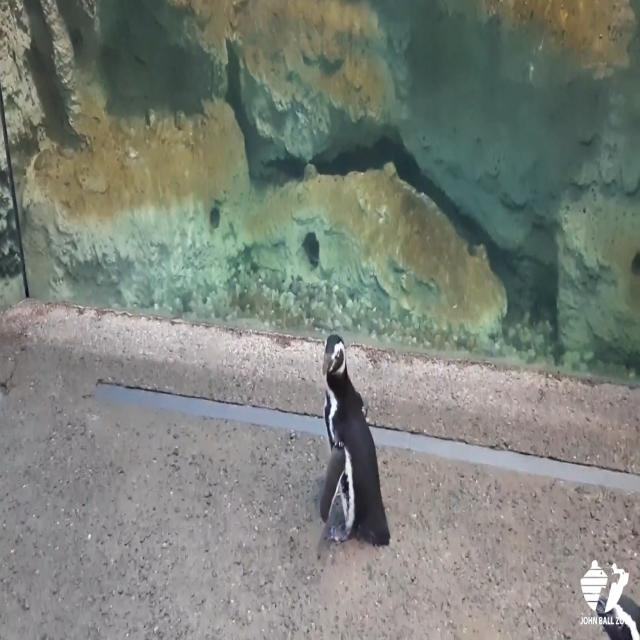penguin: (318, 331, 393, 550)
